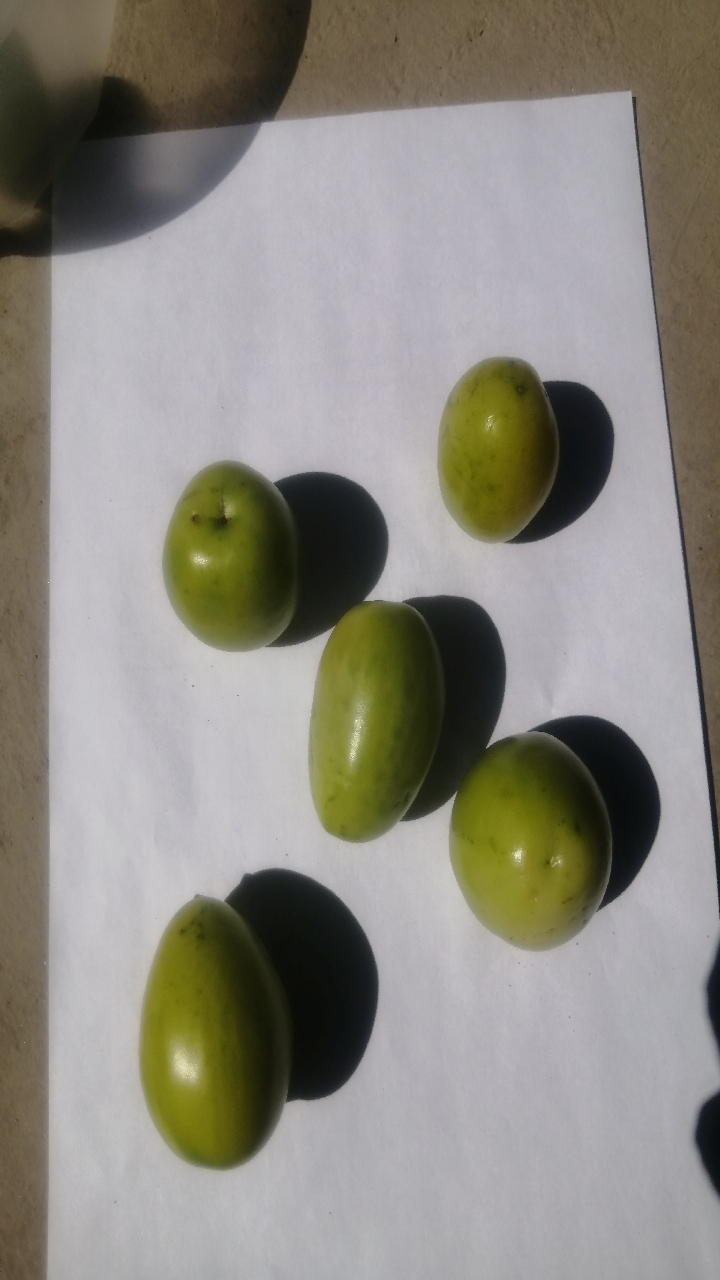tomateVerde: (111, 883, 315, 1188), (435, 703, 635, 979), (283, 563, 460, 863), (132, 443, 321, 666), (412, 335, 577, 569)
